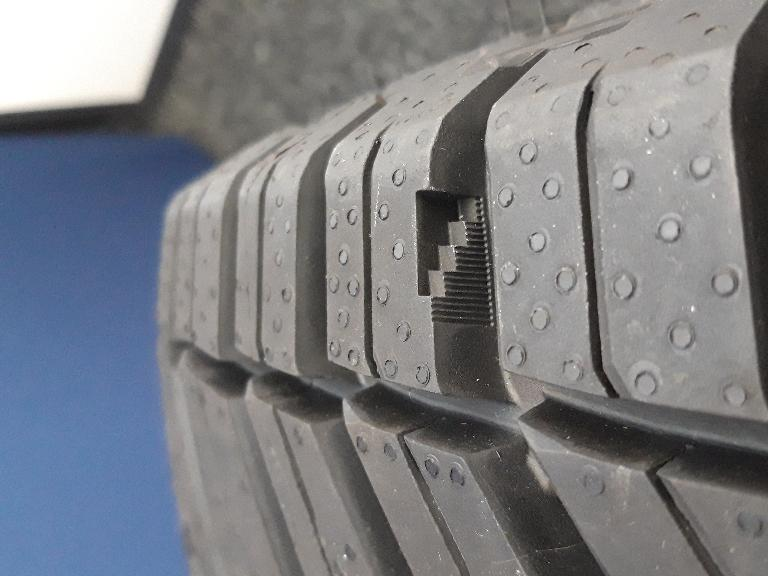temoin:100: (412, 186, 497, 330)
